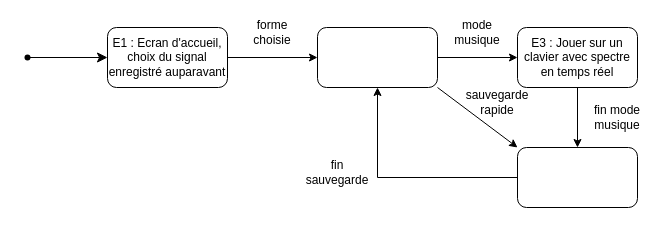
Some shapes in this 665 by 225 pixel diagram are drawn without their labels. Each missing label, with the centre of its shape:
"E2 : Interface de choix de signal" belongs at pixel 377 57.
"E4 : Choix sauvegarde" belongs at pixel 577 177.
